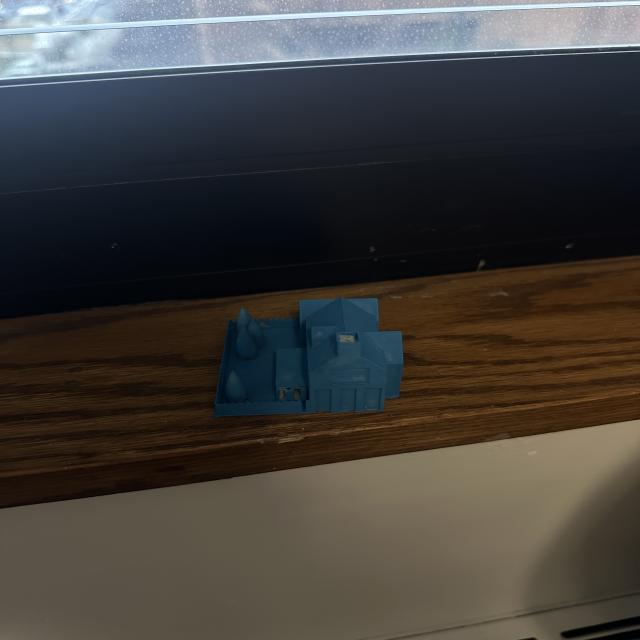house: (210, 294, 409, 418)
